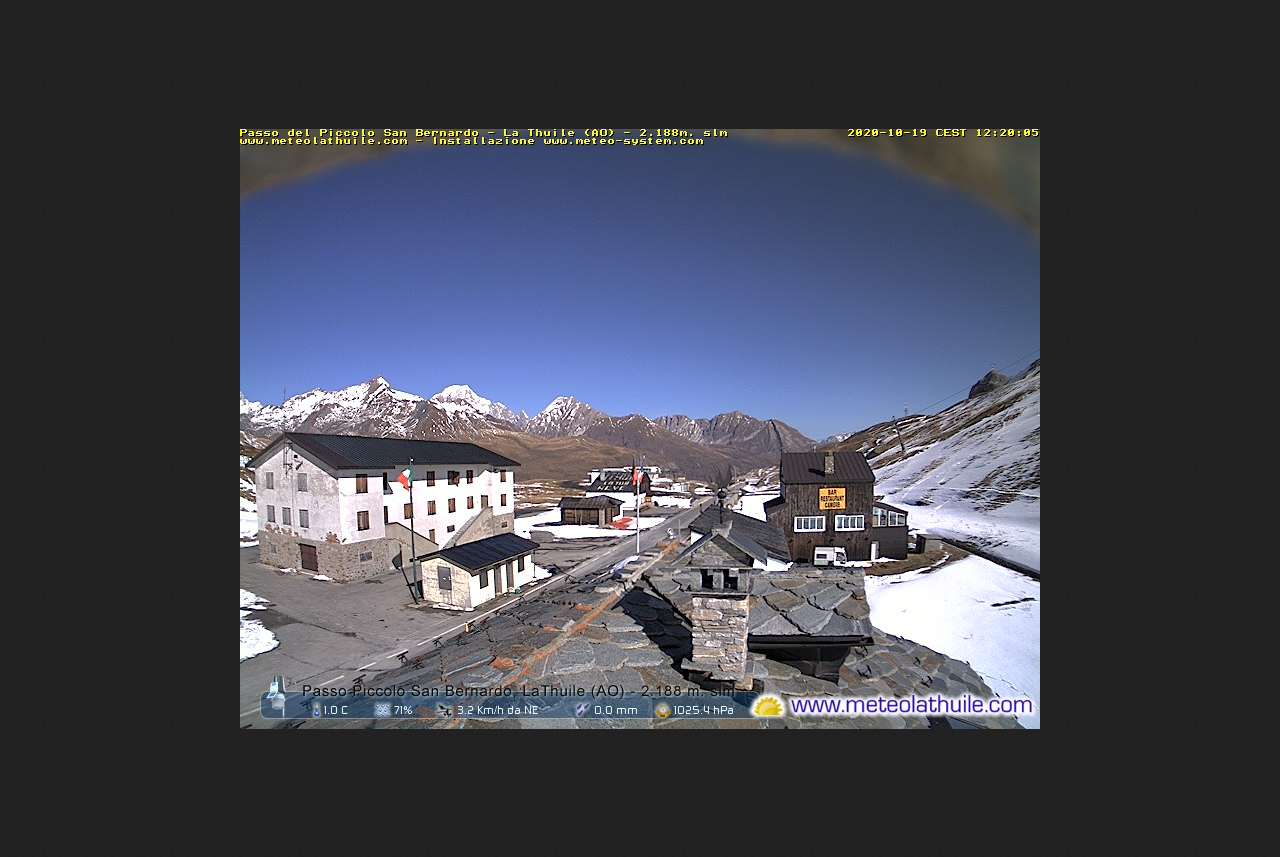maybe: (396, 468, 414, 493)
no: (628, 458, 637, 483), (638, 461, 645, 482)
